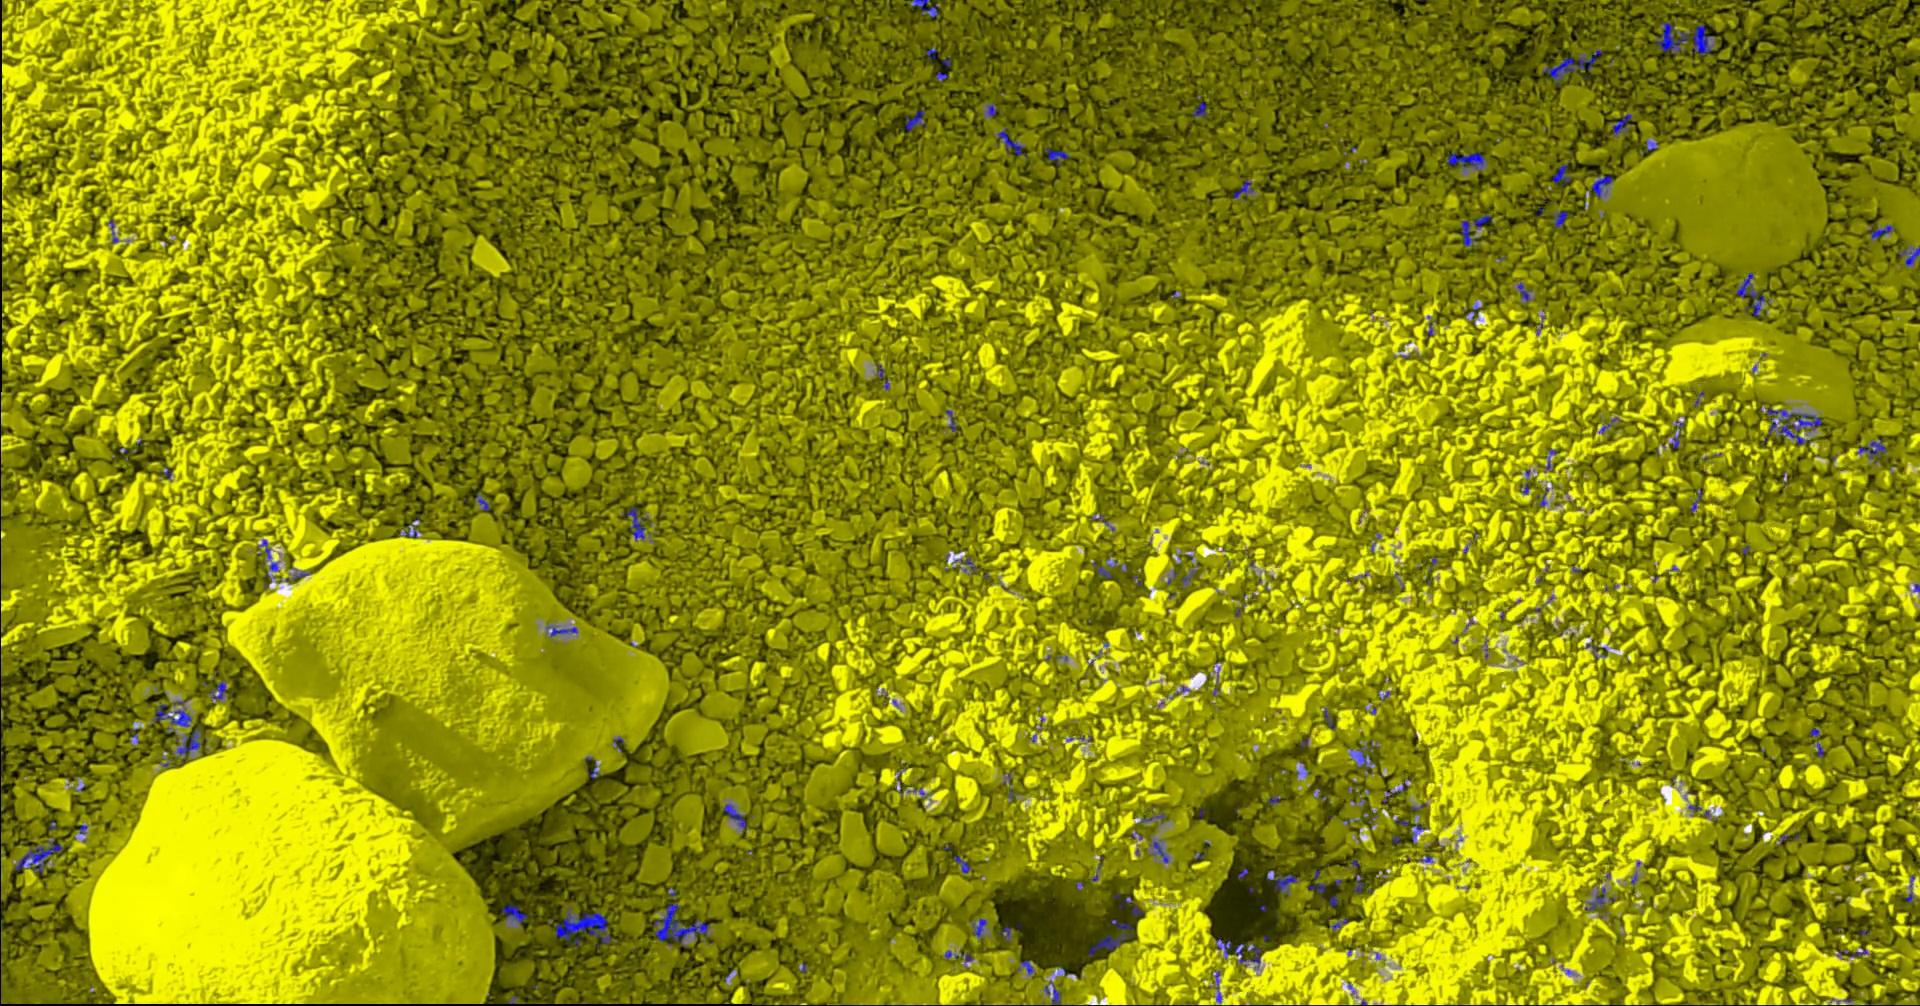ant: (554, 906, 615, 948), (651, 902, 709, 945), (1542, 48, 1601, 86), (1766, 406, 1821, 445), (1655, 22, 1712, 55), (13, 837, 62, 874), (1088, 918, 1133, 956), (1736, 271, 1765, 316), (1459, 213, 1490, 246), (996, 127, 1027, 158), (175, 725, 201, 762), (152, 702, 190, 727), (1265, 869, 1297, 897), (622, 506, 648, 540), (1446, 151, 1486, 171), (1583, 887, 1615, 909), (1091, 558, 1126, 578), (1350, 747, 1375, 774), (1234, 942, 1261, 967), (1857, 438, 1887, 459), (502, 901, 527, 925), (723, 803, 745, 829), (902, 109, 926, 131), (1590, 174, 1611, 198), (1044, 147, 1069, 165), (910, 0, 937, 17), (1550, 163, 1570, 185), (1232, 179, 1255, 198), (1810, 727, 1823, 757), (1611, 113, 1630, 135), (1150, 840, 1168, 862), (1044, 981, 1060, 1005), (1898, 246, 1919, 265), (1867, 225, 1893, 239), (545, 625, 577, 636), (1671, 420, 1684, 447), (952, 558, 977, 572), (208, 680, 225, 700), (971, 917, 985, 940), (943, 950, 971, 962), (952, 855, 970, 873), (404, 518, 420, 537), (1690, 488, 1702, 513), (1308, 883, 1324, 899), (1552, 210, 1567, 227), (474, 493, 489, 511), (1517, 282, 1531, 301), (1191, 102, 1208, 117), (1215, 937, 1230, 954), (945, 409, 956, 431), (1323, 708, 1335, 729), (997, 926, 1011, 941), (1352, 874, 1363, 892), (985, 102, 996, 117)
